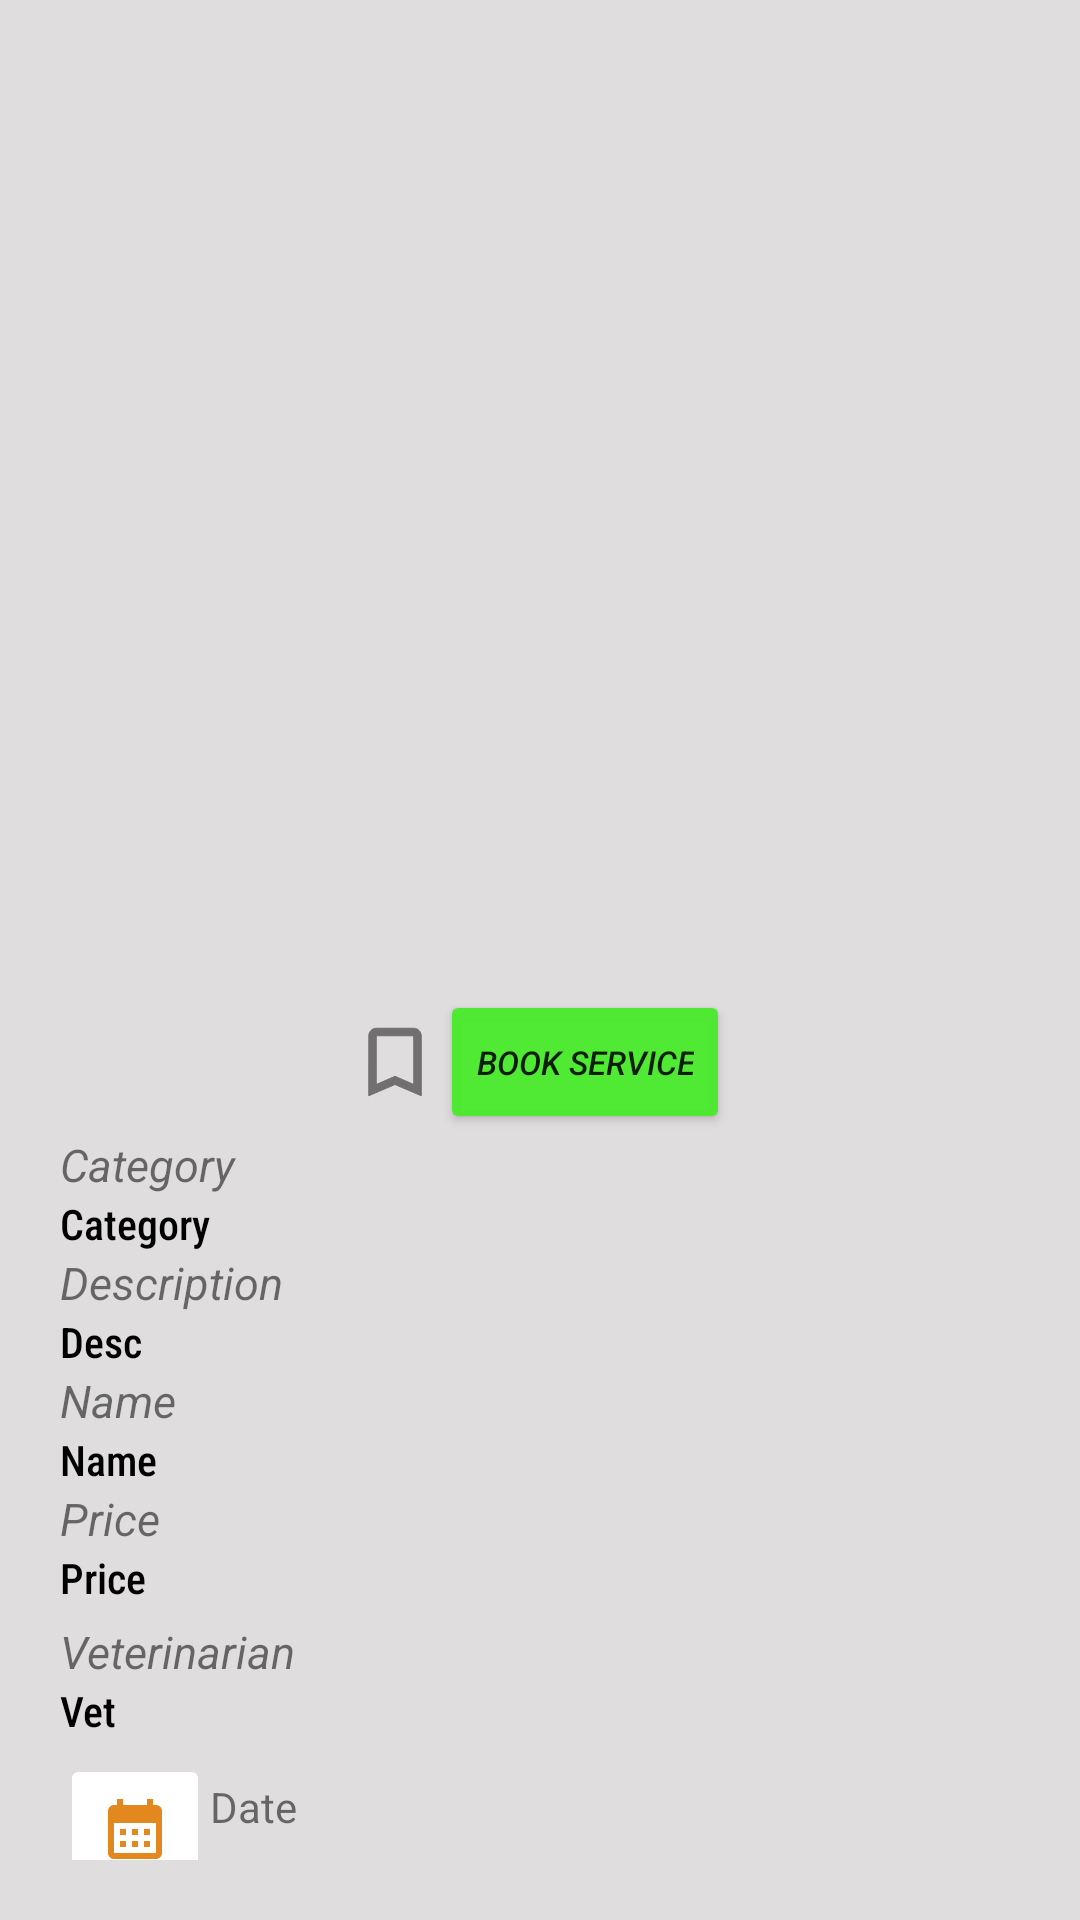

Where icons sit on this 1080×1920 app screen, as bbox(x1, y1, x2, y2):
bookmark border: bbox(368, 1027, 422, 1096)
